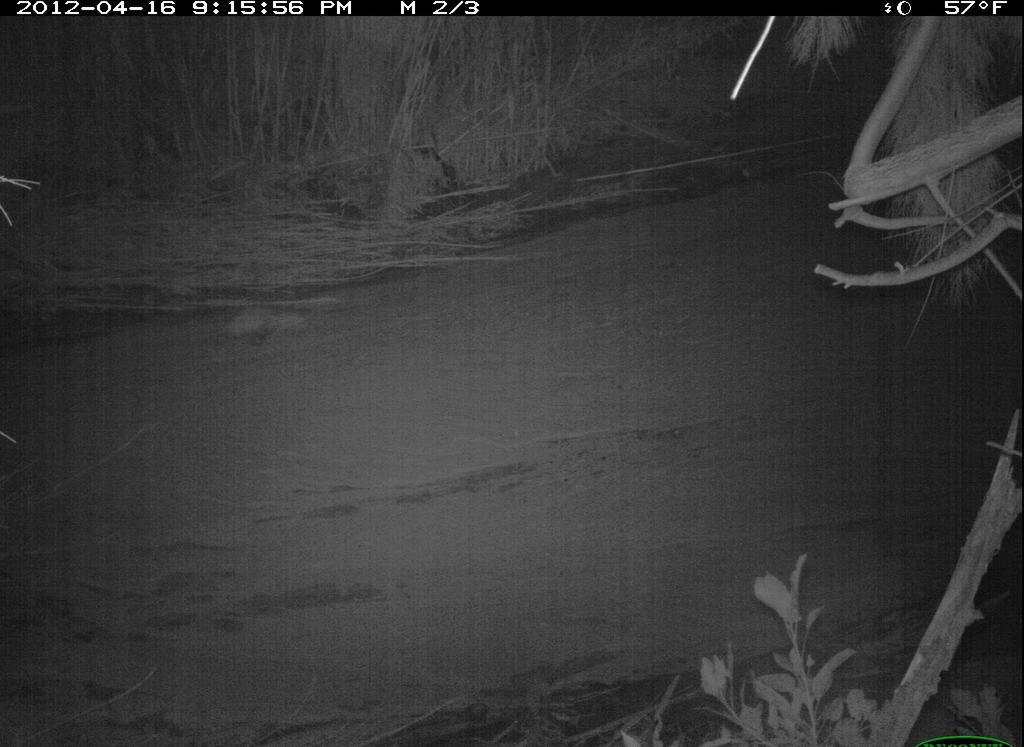opossum: (194, 302, 318, 352)
